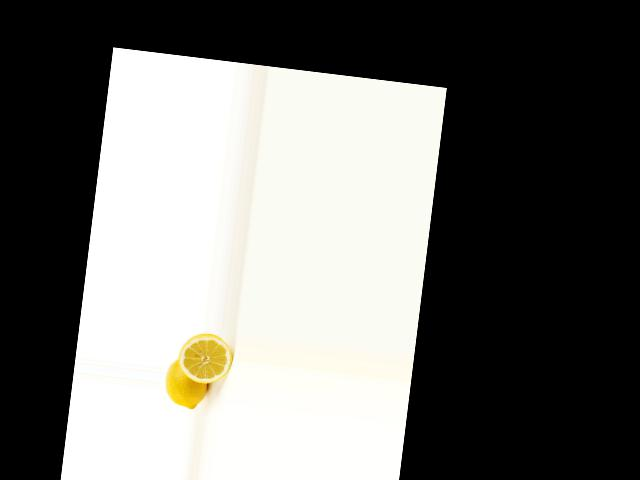lemon: (162, 356, 215, 413)
